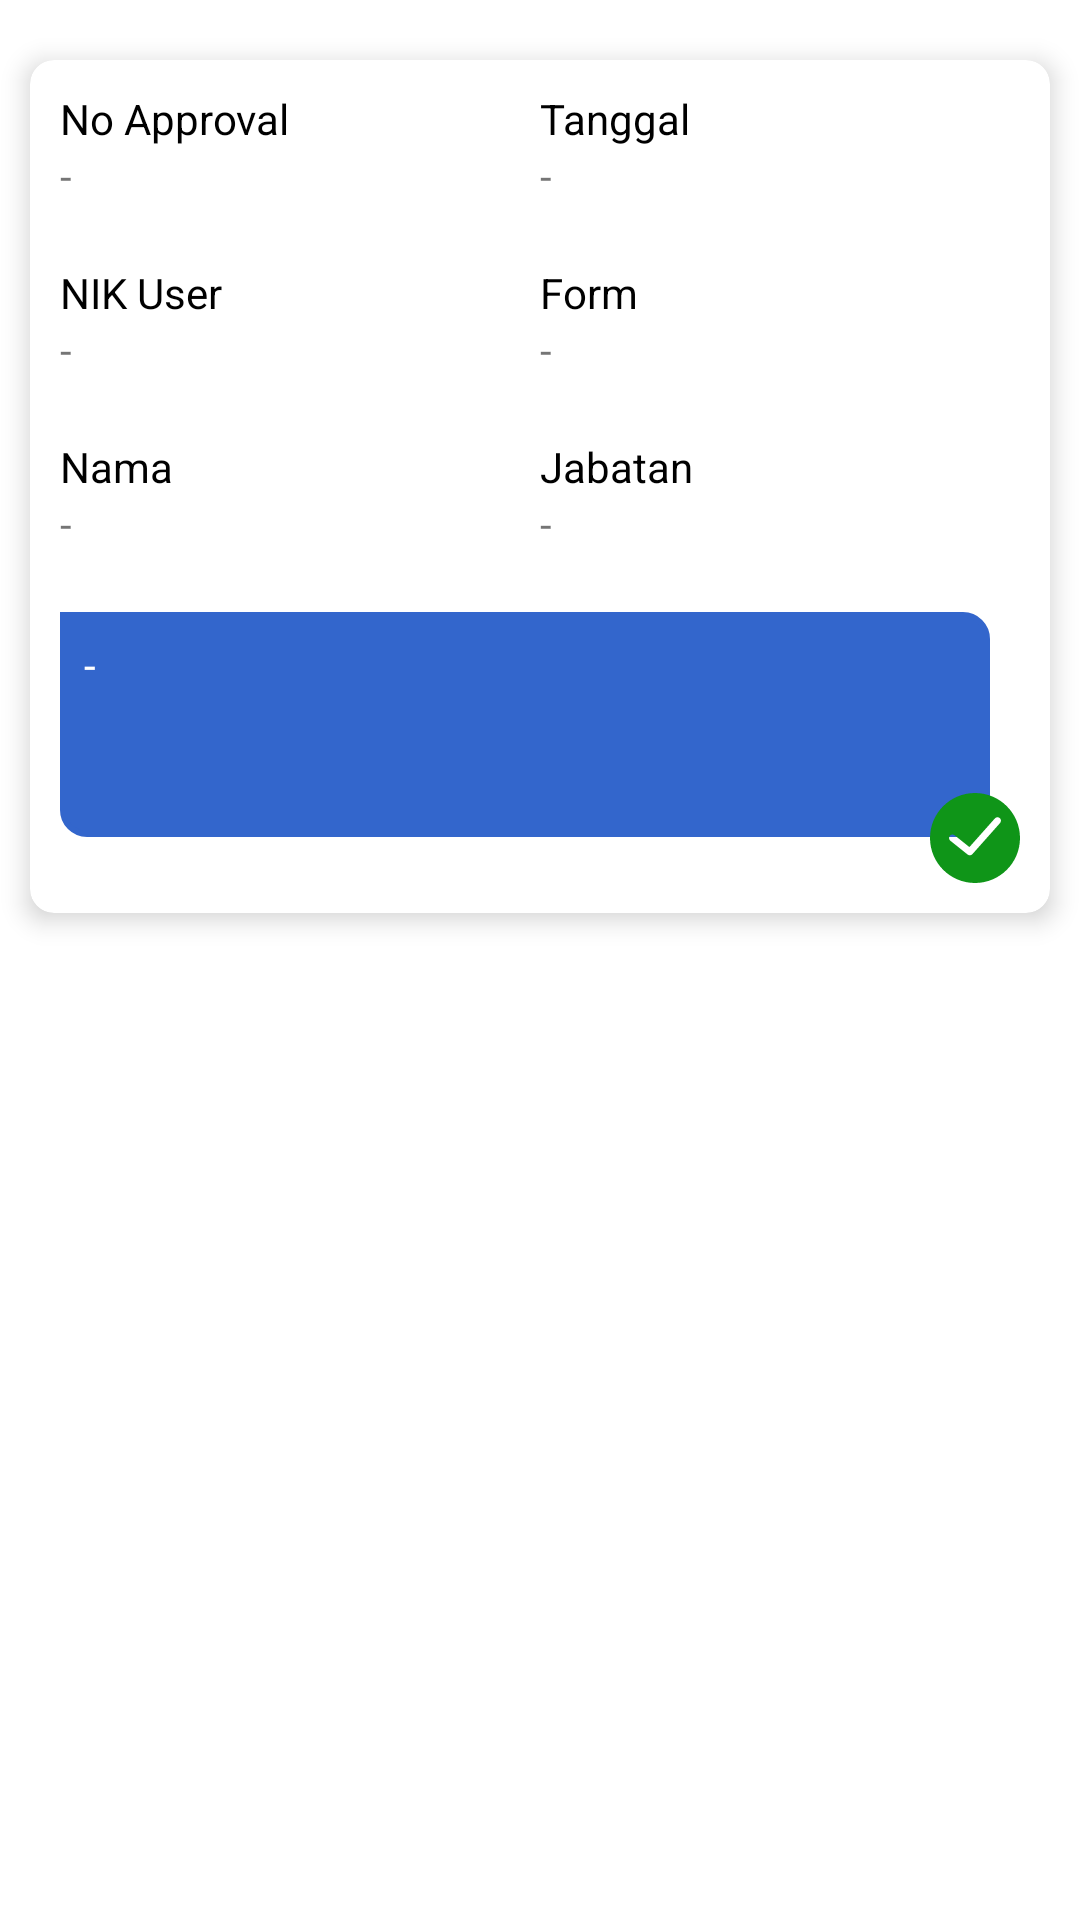

Point at icon controls on the screen. Image size 1080px×1920px, points as (x,y).
approved: (975,838)
